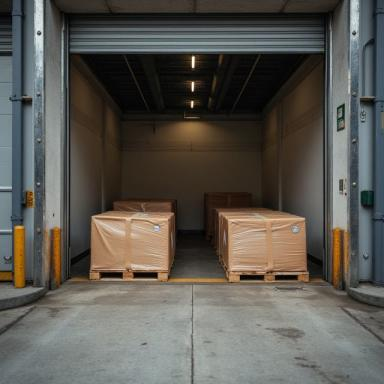pallet: (219, 255, 309, 283), (89, 269, 170, 282), (133, 273, 157, 279), (275, 275, 298, 281), (101, 272, 122, 278)
